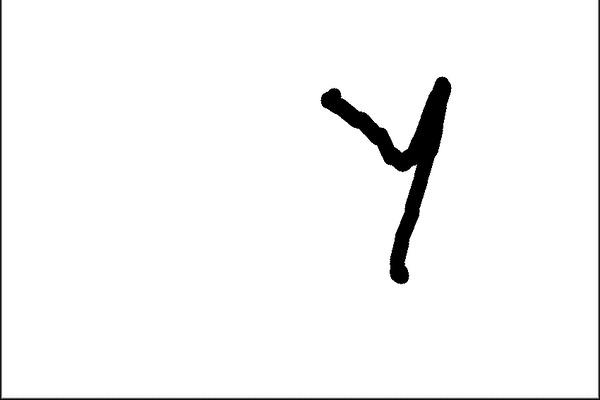Y: (309, 69, 470, 299)
